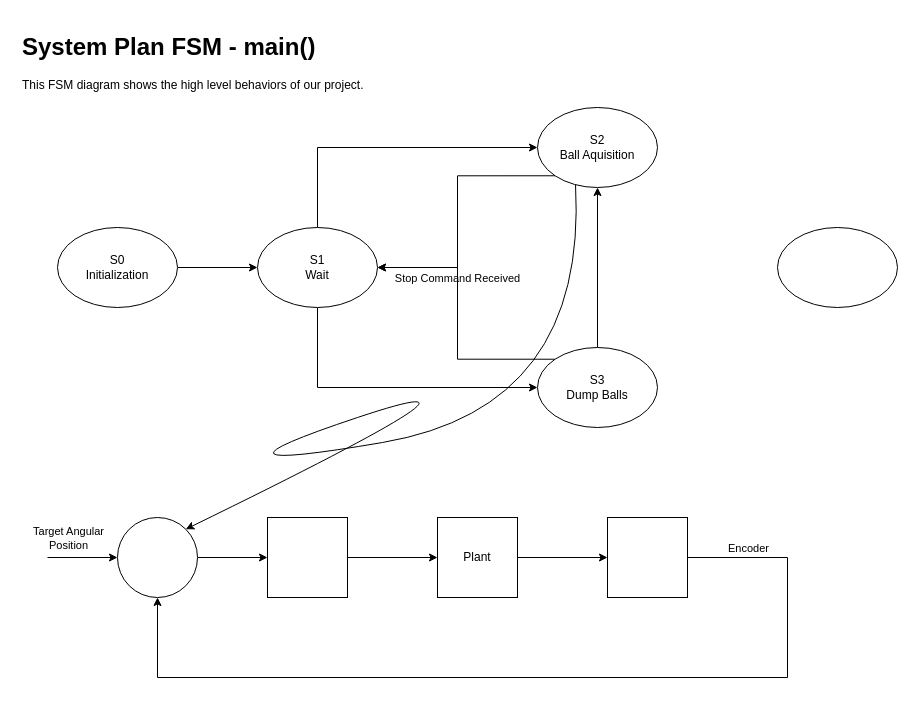
The diagram is 915 pixels wide and 703 high, and some of its shapes have lost their labels. The centre of each missing label's shape, as x and y in pixels:
"PI Controller" belongs at pixel 307 557.
"S3 Go to Goal" belongs at pixel 837 267.
"Sensor" belongs at pixel 647 557.
